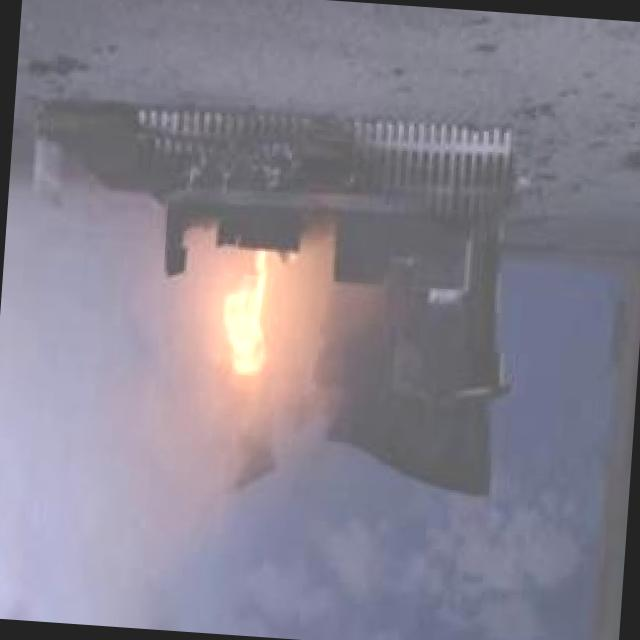fire: (193, 245, 304, 410)
smoke: (0, 367, 319, 637)
